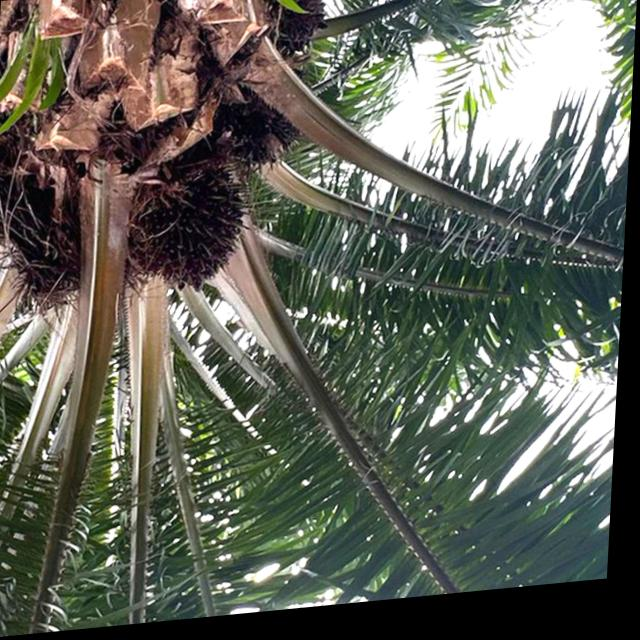almost: (129, 162, 253, 304)
